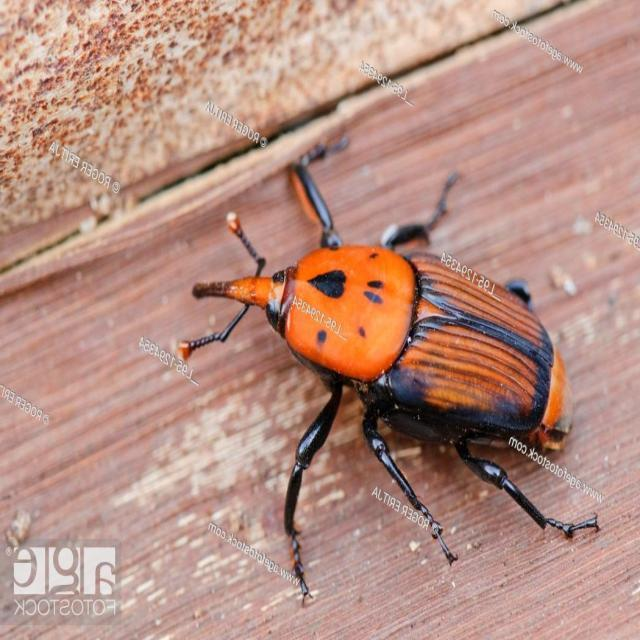Red-palm-weevil: (174, 155, 619, 606)
